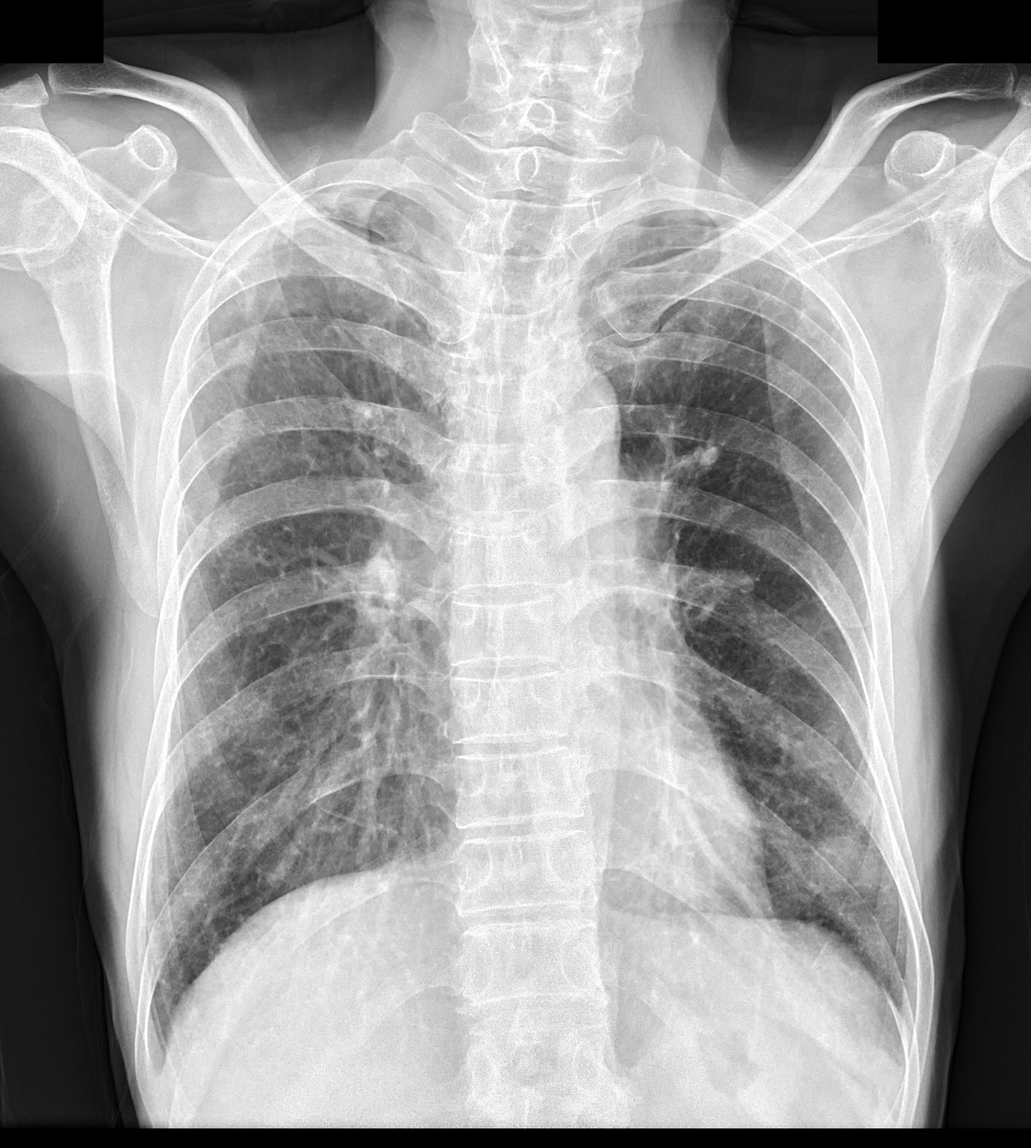Pleural thickening: (133, 1034, 176, 1097)
Pulmonary fibrosis: (196, 184, 409, 421), (679, 212, 837, 338)
